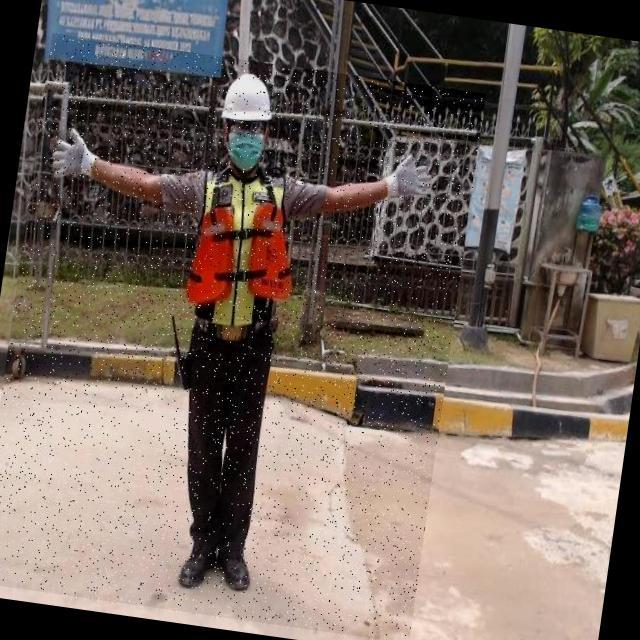Helmet: (211, 72, 272, 130)
Human: (0, 33, 486, 640)
Safety Boot: (177, 543, 220, 600), (214, 548, 257, 600)
Safety Vest: (185, 164, 307, 336)
